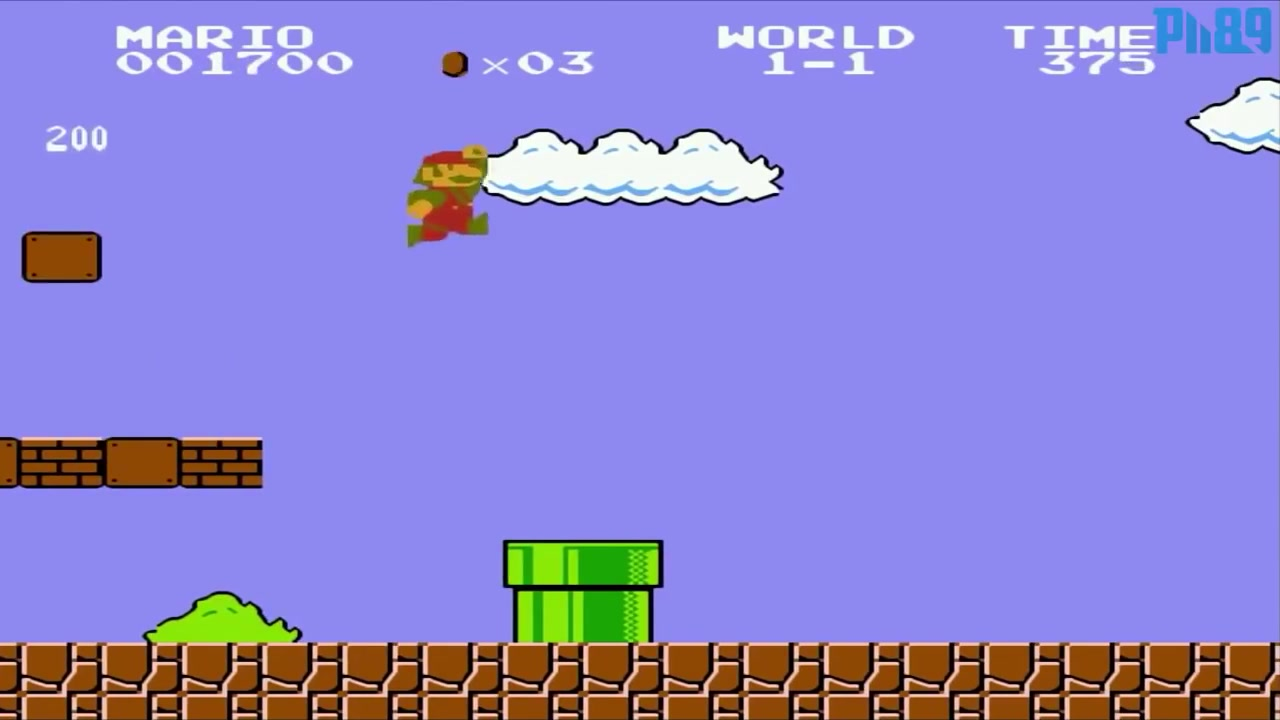mario: (398, 138, 494, 253)
